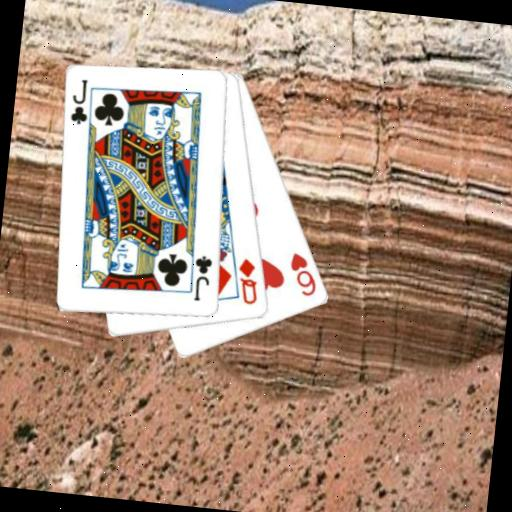6H: (285, 249, 322, 299)
JC: (189, 252, 216, 304), (66, 76, 93, 127)
QD: (233, 254, 264, 307)
